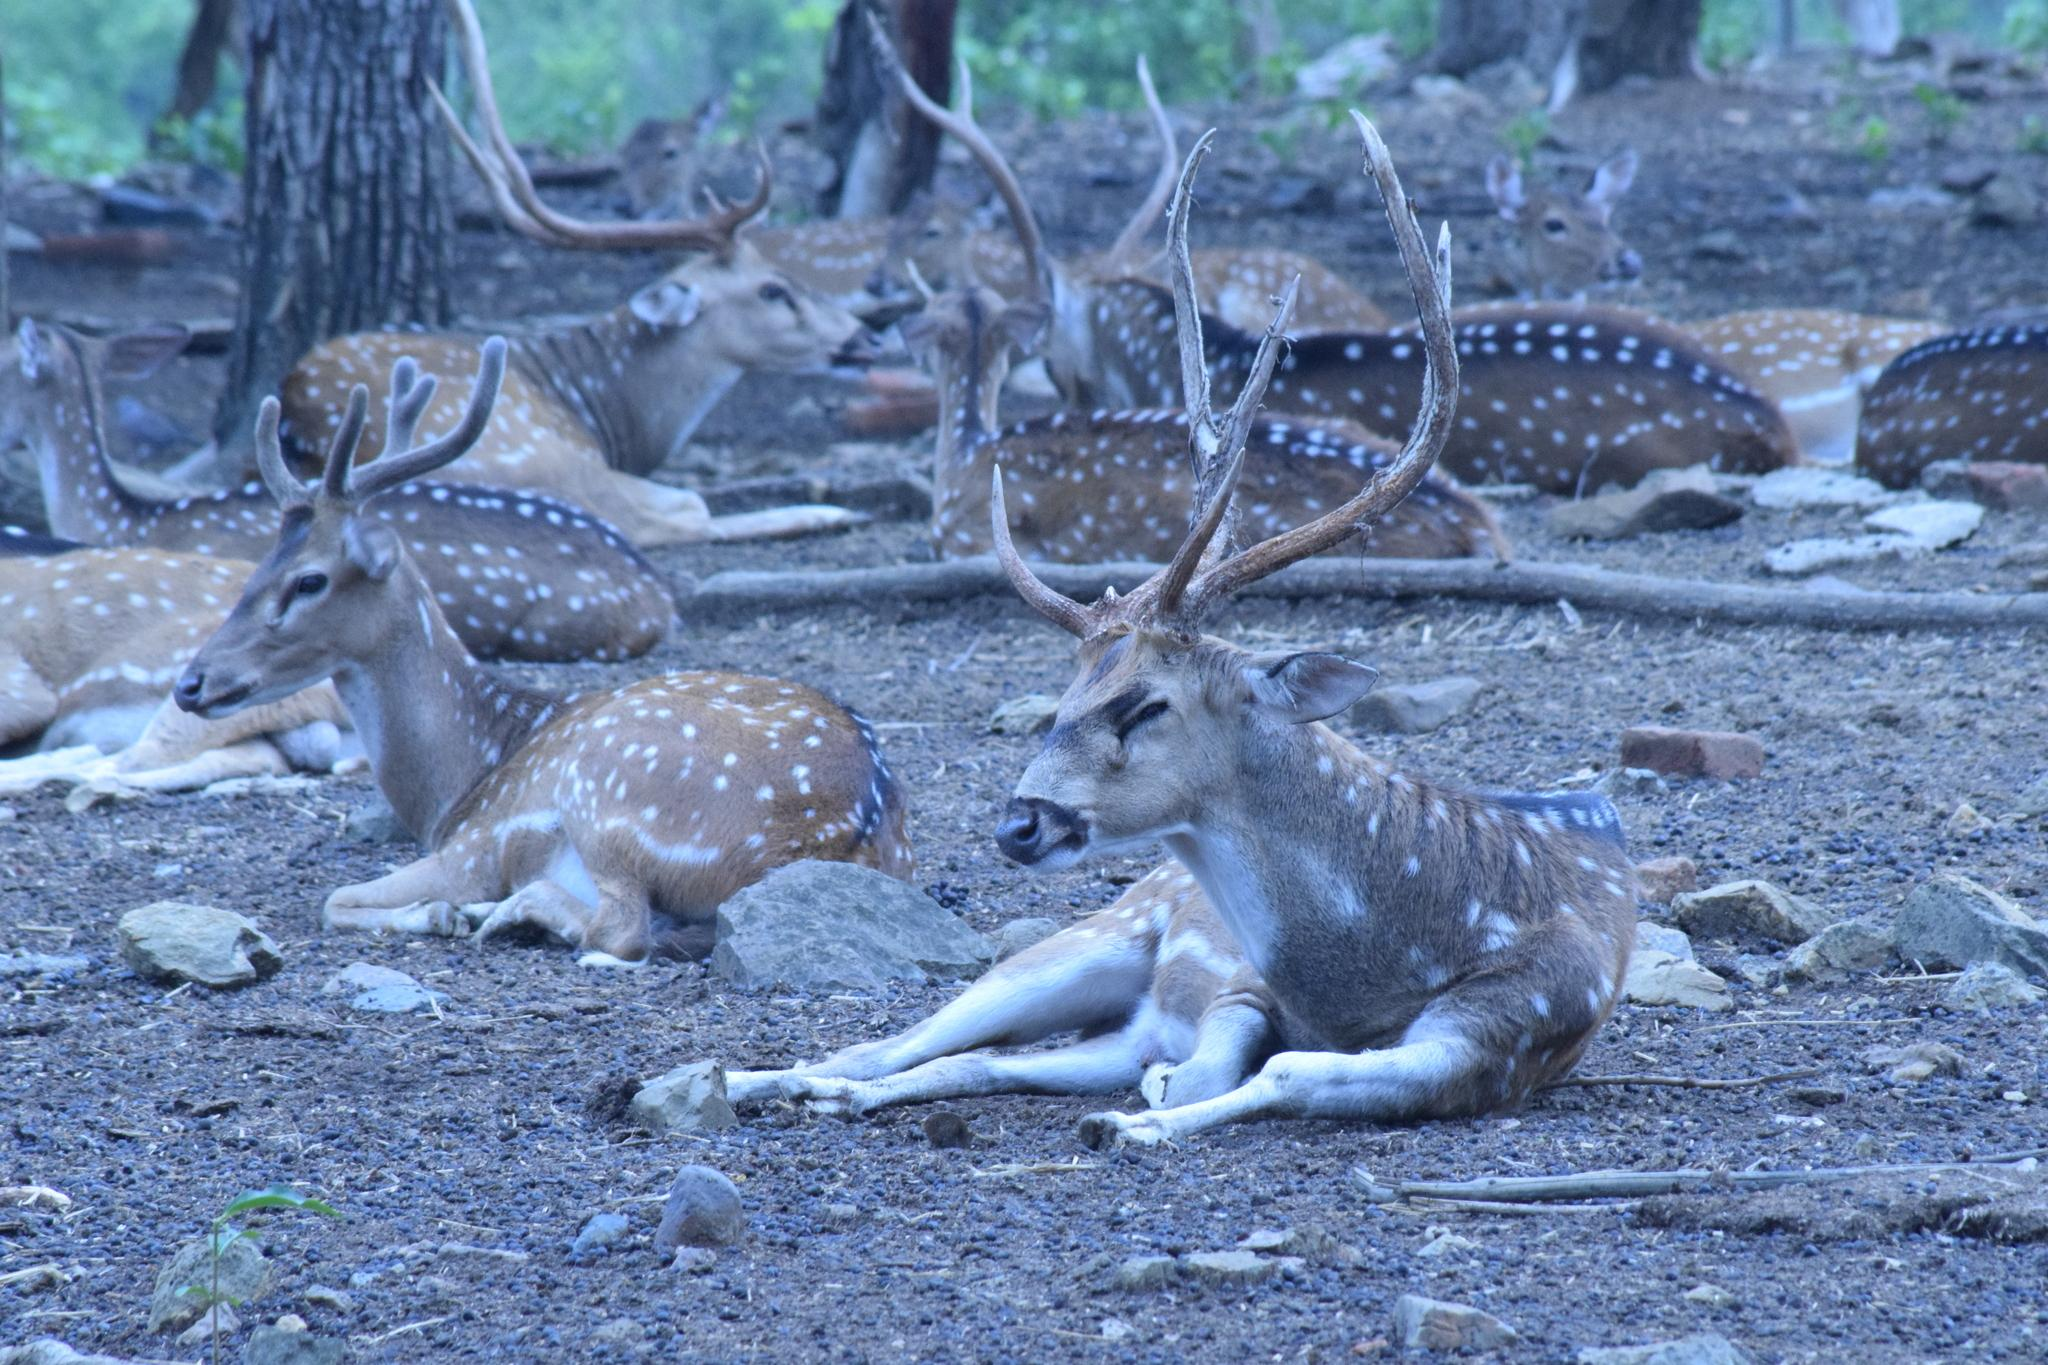Deer: (726, 114, 1638, 1147), (174, 338, 912, 960), (901, 286, 1194, 564)
